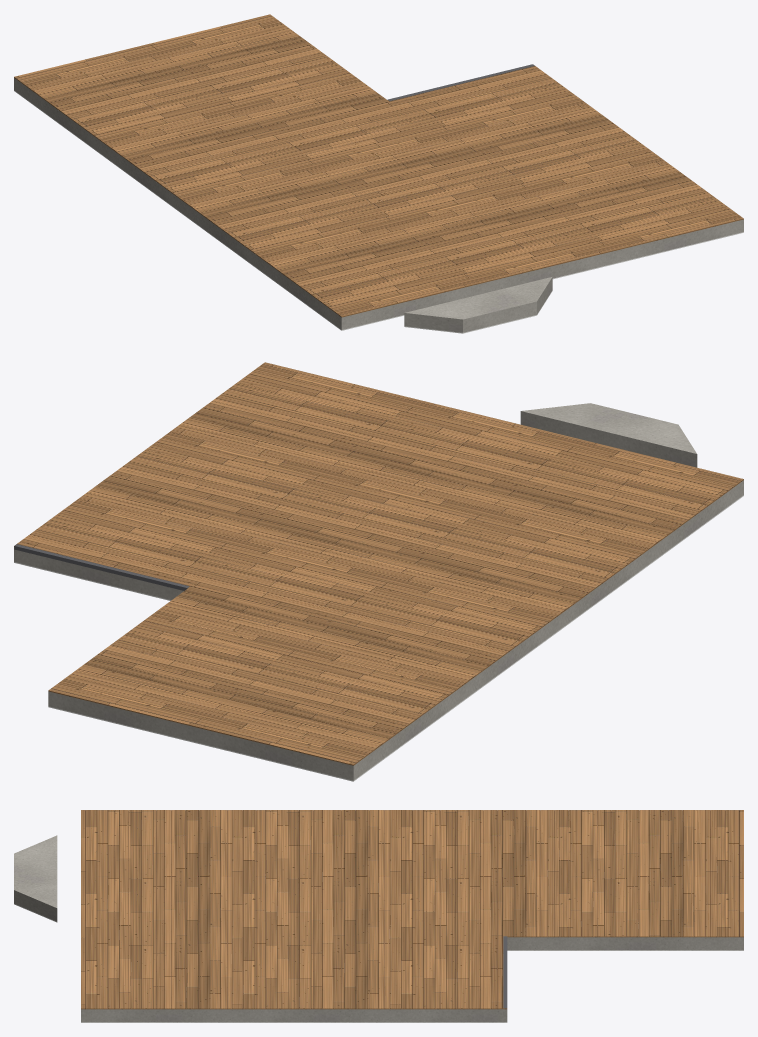
File: slab_a_r.glb
3 views of the same model, one above another, from view 1: azimuth 30°, elevation 25°; view 2: azimuth 150°, elevation 25°; view 3: azimuth 270°, elevation 25° (orthographic). The views are drawn at different scales.
Visible parts, largest first — view 1: slab_a_r_wood, slab_a_r_conc_s, slab_a_r_ceil; view 2: slab_a_r_wood, slab_a_r_conc_s, slab_a_r_ceil, slab_a_r_dark; view 3: slab_a_r_wood, slab_a_r_conc_s, slab_a_r_dkwood, slab_a_r_ceil.
Part boxes in pixels (x1,y1,x2,y2): slab_a_r_wood: (14, 14, 743, 317); slab_a_r_conc_s: (14, 78, 743, 332); slab_a_r_ceil: (14, 90, 743, 333); slab_a_r_wood: (14, 362, 743, 765); slab_a_r_conc_s: (14, 403, 743, 780); slab_a_r_ceil: (14, 495, 743, 781); slab_a_r_dark: (14, 544, 189, 590); slab_a_r_wood: (81, 810, 743, 1009); slab_a_r_conc_s: (14, 835, 743, 1021); slab_a_r_dkwood: (85, 810, 739, 1008); slab_a_r_ceil: (14, 903, 743, 1022).
Size of the model in its own units: 5.95 by 1.06 by 9.25.
8 materials, 4 textured.
